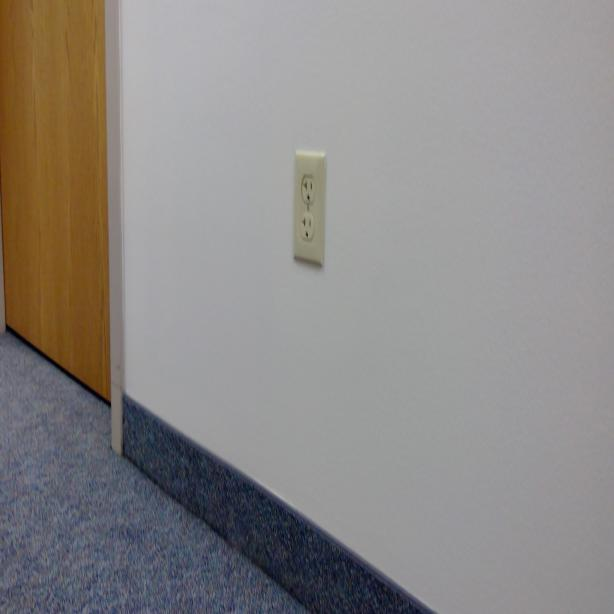typeb: (298, 214, 315, 241), (302, 176, 316, 205)
